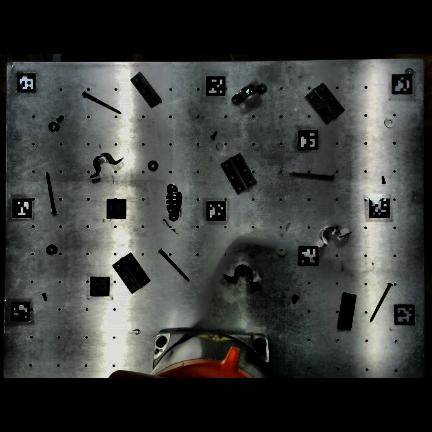black_screw: (209, 131, 217, 139), (292, 295, 298, 303), (382, 176, 387, 184), (58, 115, 63, 119), (43, 297, 45, 302)
clamp: (318, 227, 351, 249), (232, 84, 266, 105), (226, 263, 258, 284), (166, 184, 178, 221), (112, 158, 121, 163)
golden_screw: (290, 173, 334, 180), (156, 248, 172, 267), (380, 282, 388, 298), (82, 91, 95, 99), (45, 172, 48, 178)
hinge: (307, 83, 345, 124), (113, 253, 151, 293), (221, 153, 257, 194), (131, 71, 161, 108), (340, 292, 343, 302)
marker: (392, 74, 412, 95), (205, 76, 226, 96), (369, 198, 390, 218), (298, 246, 319, 266), (394, 305, 415, 325), (206, 201, 227, 220), (299, 130, 318, 150), (10, 302, 30, 321), (90, 277, 109, 297), (12, 199, 32, 218), (17, 73, 36, 93), (107, 199, 126, 218)
washer: (147, 160, 158, 171), (280, 248, 286, 256), (384, 125, 393, 128), (46, 246, 48, 255), (49, 122, 57, 124)
